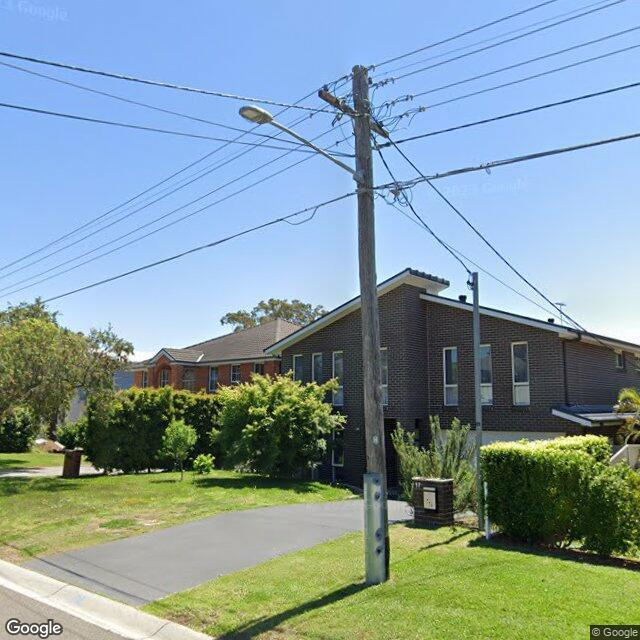crossarm: (317, 90, 390, 140)
steel-pole: (472, 272, 484, 530)
streetlight: (237, 104, 363, 184)
timber-pole: (352, 63, 390, 584)
